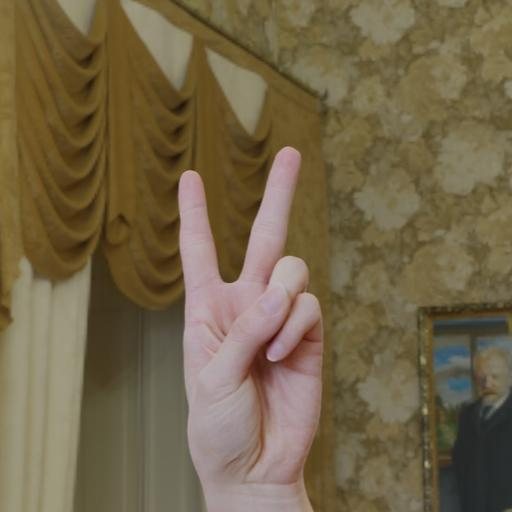V: (169, 134, 333, 504)
